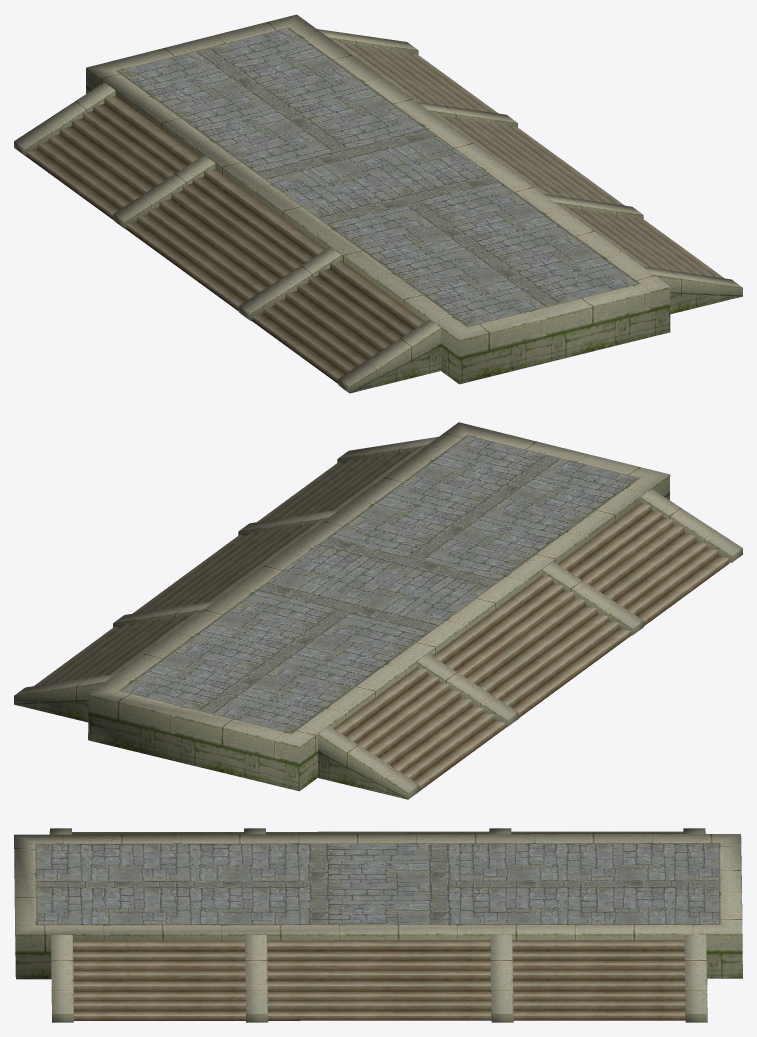
The model's file is environment_Building_qingsangcheng_001_c.FBX.
3 views of the same model, one above another, from view 1: azimuth 30°, elevation 25°; view 2: azimuth 150°, elevation 25°; view 3: azimuth 270°, elevation 25° (orthographic). The views are drawn at different scales.
Parts seen in each view (by area): view 1: environment_Building_qingsangcheng_001_c1, environment_Building_qingsangcheng_001_c3, environment_Building_qingsangcheng_001_c2; view 2: environment_Building_qingsangcheng_001_c1, environment_Building_qingsangcheng_001_c3, environment_Building_qingsangcheng_001_c2; view 3: environment_Building_qingsangcheng_001_c1, environment_Building_qingsangcheng_001_c3, environment_Building_qingsangcheng_001_c2.
Boxes of the visible parts, left/top/right/bottom form: environment_Building_qingsangcheng_001_c1: left=118, top=28, right=638, bottom=326; environment_Building_qingsangcheng_001_c3: left=26, top=39, right=723, bottom=383; environment_Building_qingsangcheng_001_c2: left=14, top=14, right=742, bottom=393; environment_Building_qingsangcheng_001_c1: left=120, top=436, right=638, bottom=732; environment_Building_qingsangcheng_001_c3: left=34, top=447, right=729, bottom=790; environment_Building_qingsangcheng_001_c2: left=14, top=422, right=742, bottom=799; environment_Building_qingsangcheng_001_c1: left=36, top=843, right=719, bottom=924; environment_Building_qingsangcheng_001_c3: left=72, top=831, right=685, bottom=1020; environment_Building_qingsangcheng_001_c2: left=14, top=828, right=742, bottom=1022.
Bounding box in the file's own units: 1496 × 2452 × 171.
Materials: 3 (3 with a texture image).
